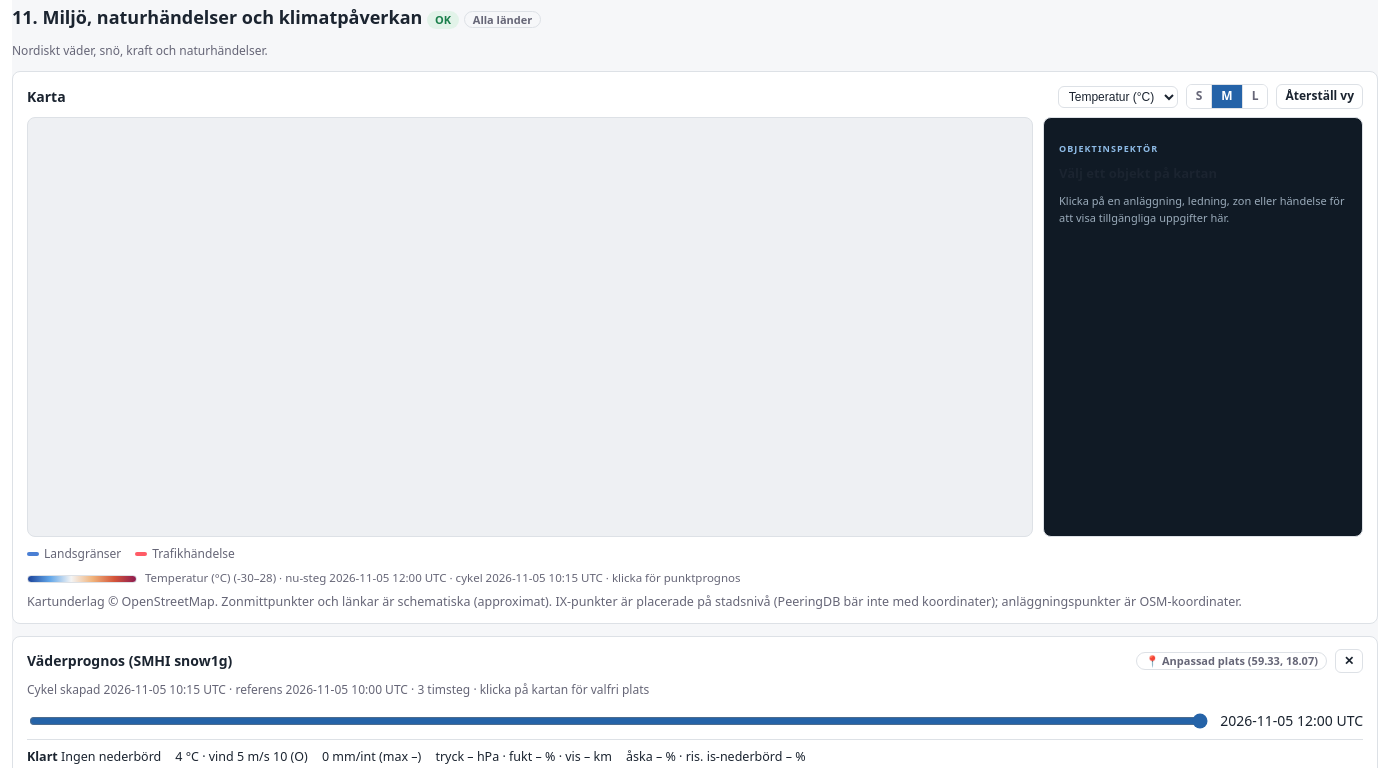
Test case: DashboardPage – väderprognos (M8, område 11) › klick på kartan → anpassad plats (2 decimaler) + punktprognos per lat/lon
Expected: the heading "11. Miljö, naturhändelser och klimatpåverkan" is shown, [12,5,541,29]
Expected: the text "📍 Anpassad plats (59.33, 18.07)" is shown, [1136,652,1327,670]
# Rensa anpassad plats via rensningsknappen
Click the button titled "Tillbaka till katalogstäderna".
click(1349, 661)  # box [1335,649,1363,674]
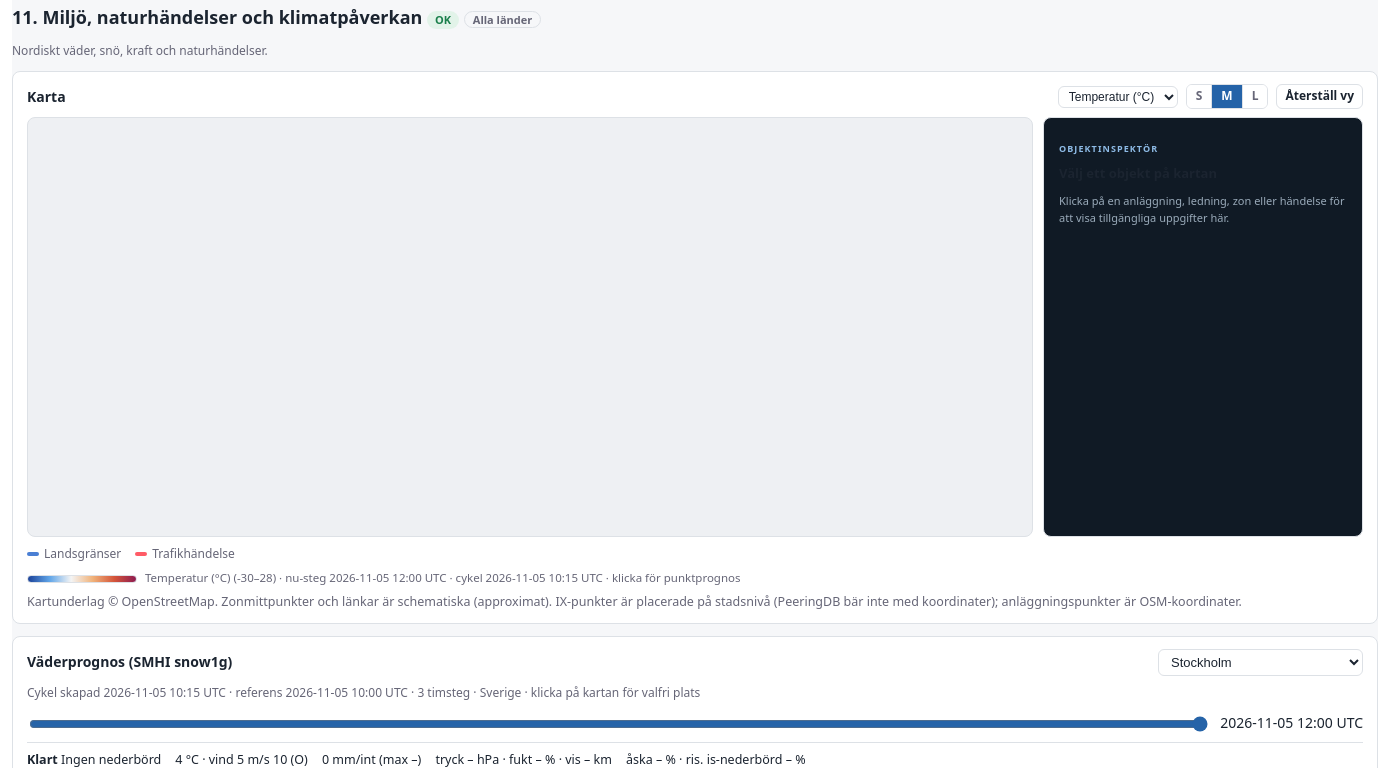
Result: the text "📍 Anpassad plats (59.33, 18.07)" is gone
Result: the dropdown named "Val av stad" is shown at [1158,649,1363,676]
